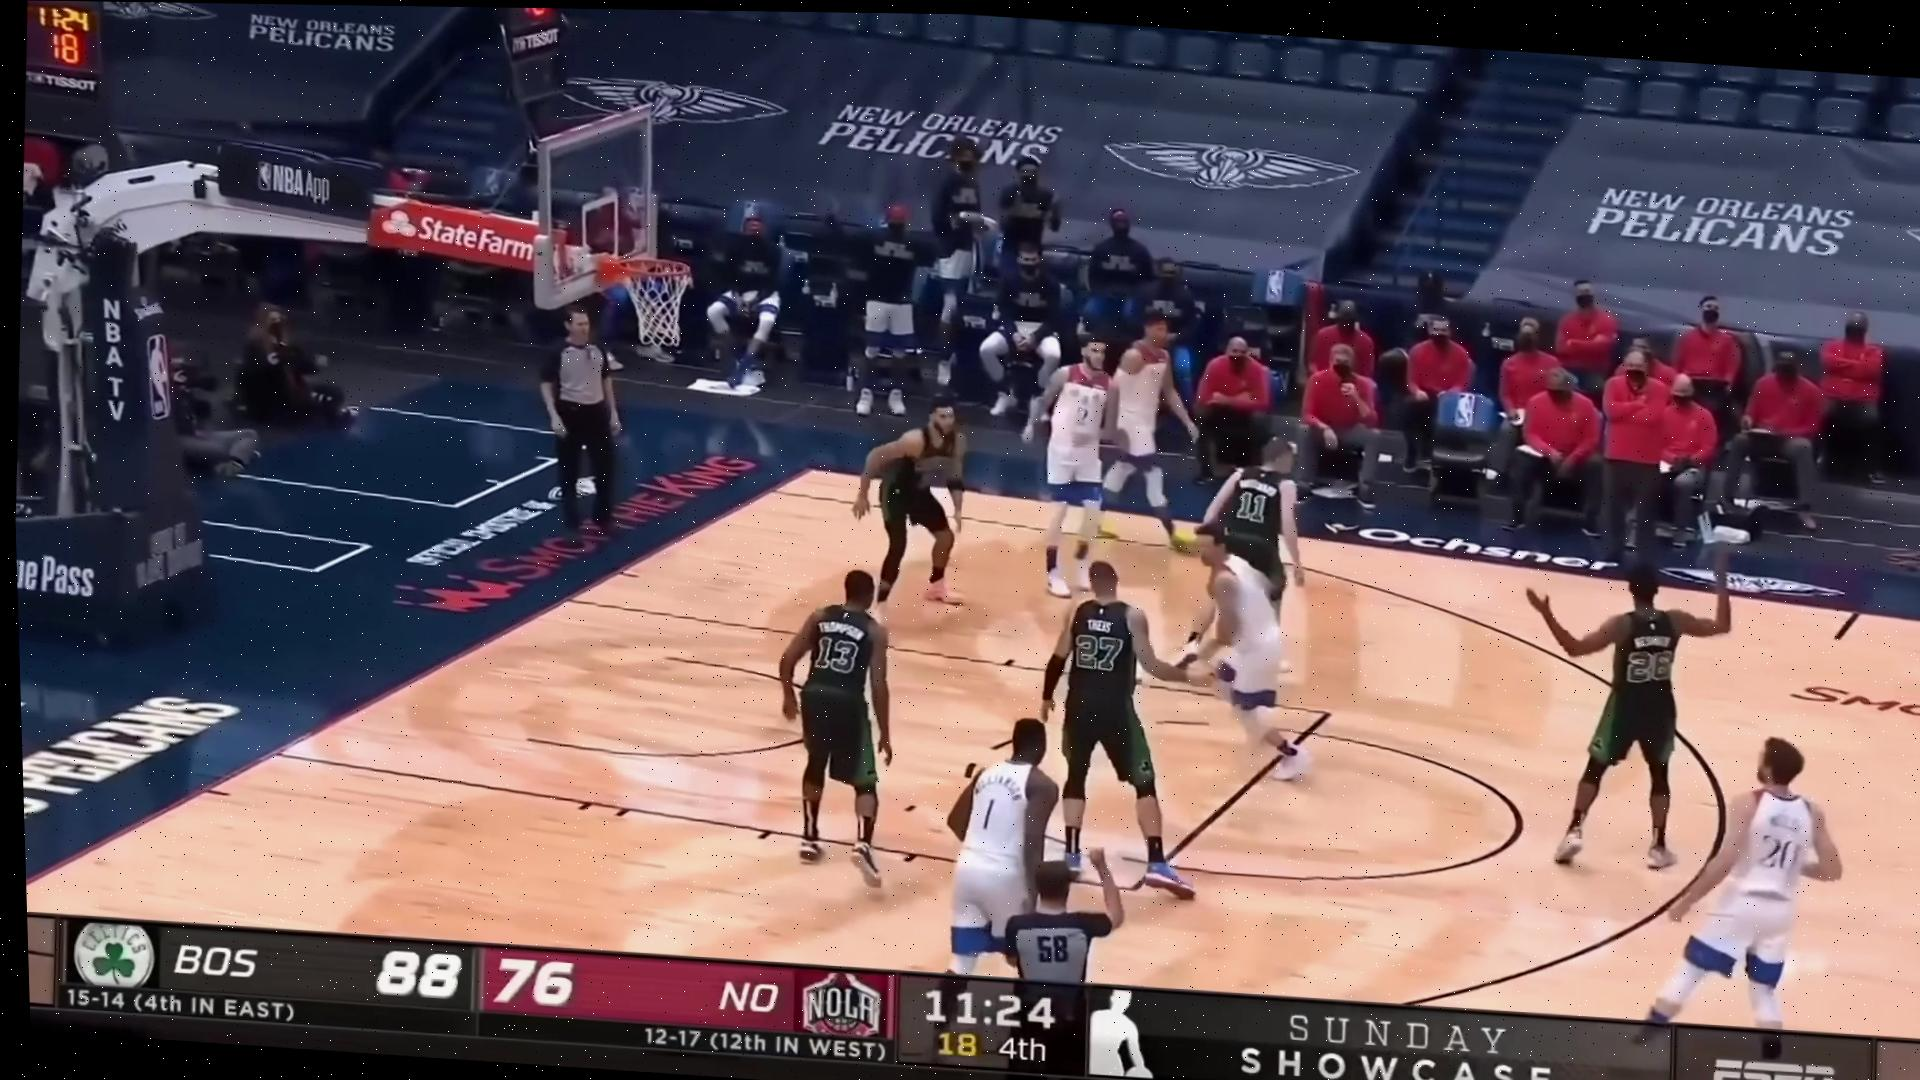no_foul: (1143, 446, 1370, 777)
